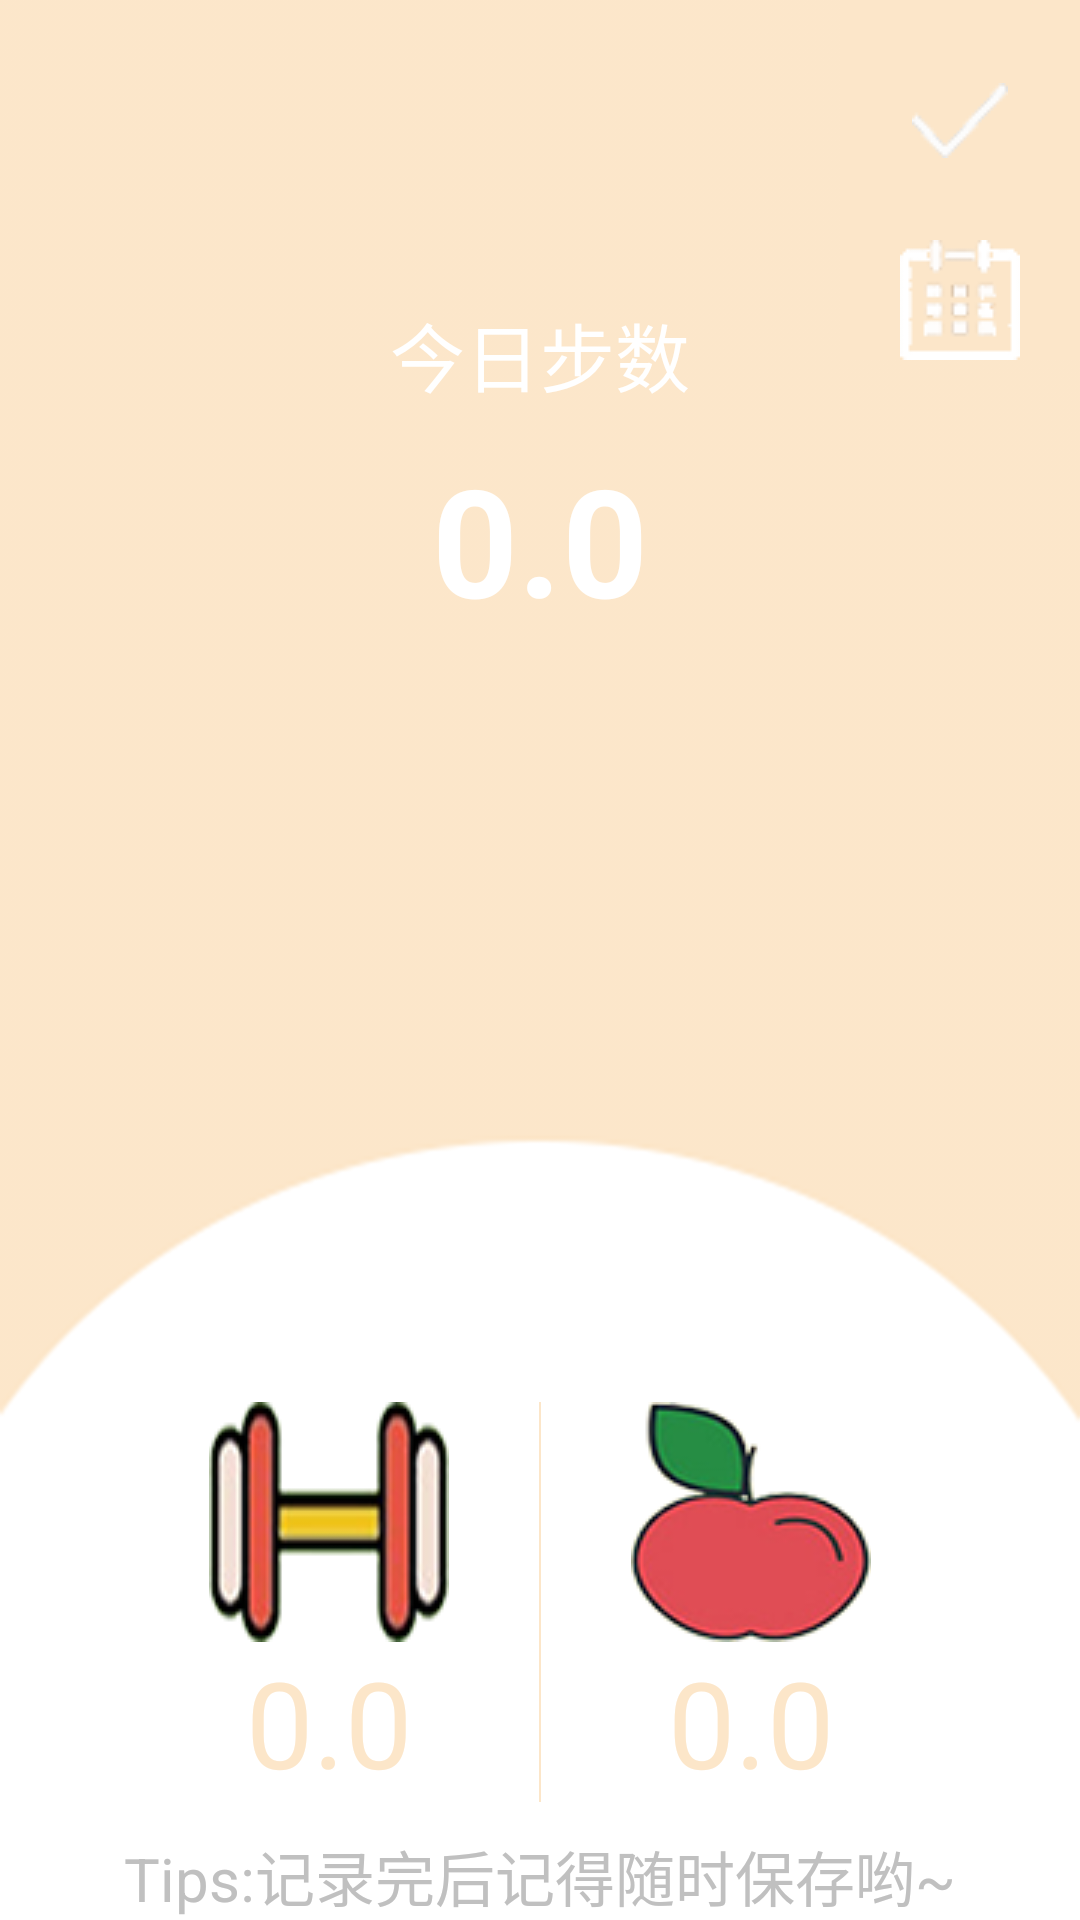

Point at icon controls on the screen. Image size 1080 × 1920, points as point (x, y).
to nutrition: point (751, 1522)
top tab save: point (960, 120)
